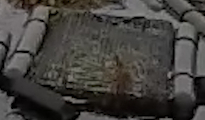bag: (4, 6, 195, 111)
